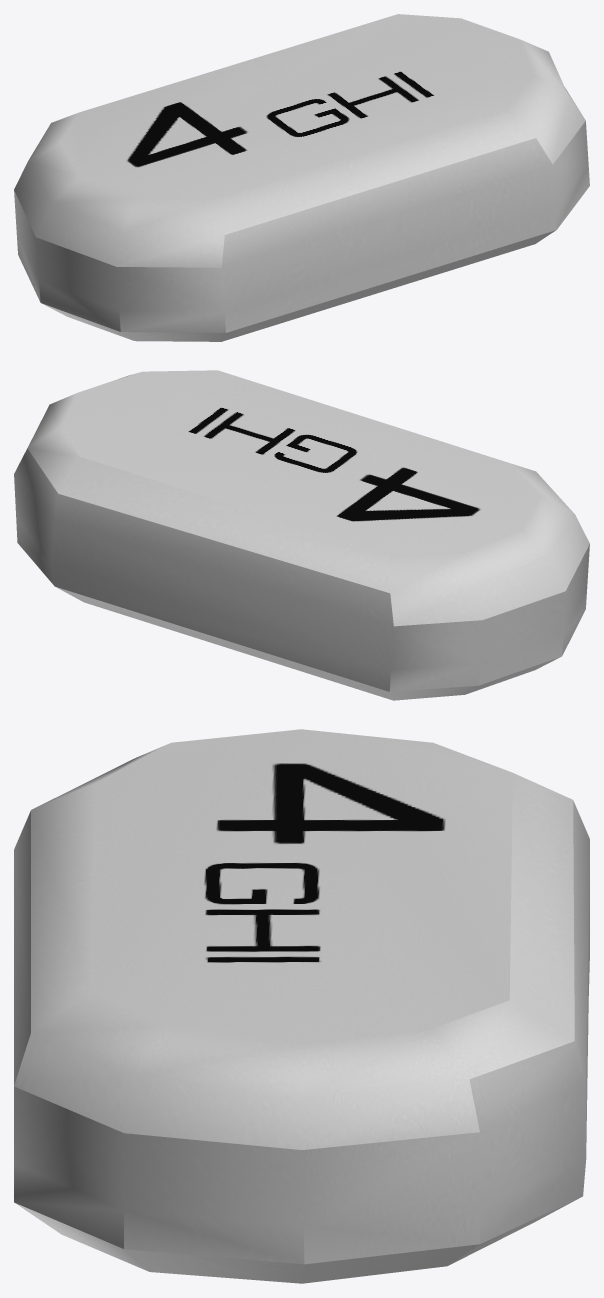
Rendered from ghi4_button.glb.
3 views of the same model, one above another, from view 1: azimuth 30°, elevation 25°; view 2: azimuth 150°, elevation 25°; view 3: azimuth 270°, elevation 25° (orthographic). The views are drawn at different scales.
Parts seen in each view (by area): view 1: ghi4_button; view 2: ghi4_button; view 3: ghi4_button.
Part boxes in pixels (x1,y1,x2,y2): ghi4_button: (14, 14, 589, 341); ghi4_button: (14, 370, 589, 700); ghi4_button: (14, 729, 589, 1283).
Size of the model in its own units: 0.00277 by 0.000842 by 0.00156.
1 material, 1 textured.
